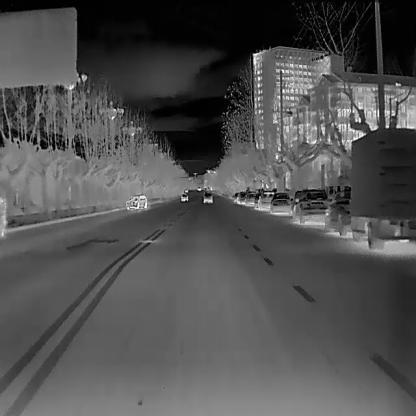car: (349, 126, 415, 251), (292, 188, 330, 224), (325, 192, 350, 235), (271, 191, 293, 217), (256, 189, 273, 212), (125, 194, 147, 209), (242, 190, 257, 206), (235, 189, 248, 204), (203, 192, 212, 203), (179, 191, 188, 201)
